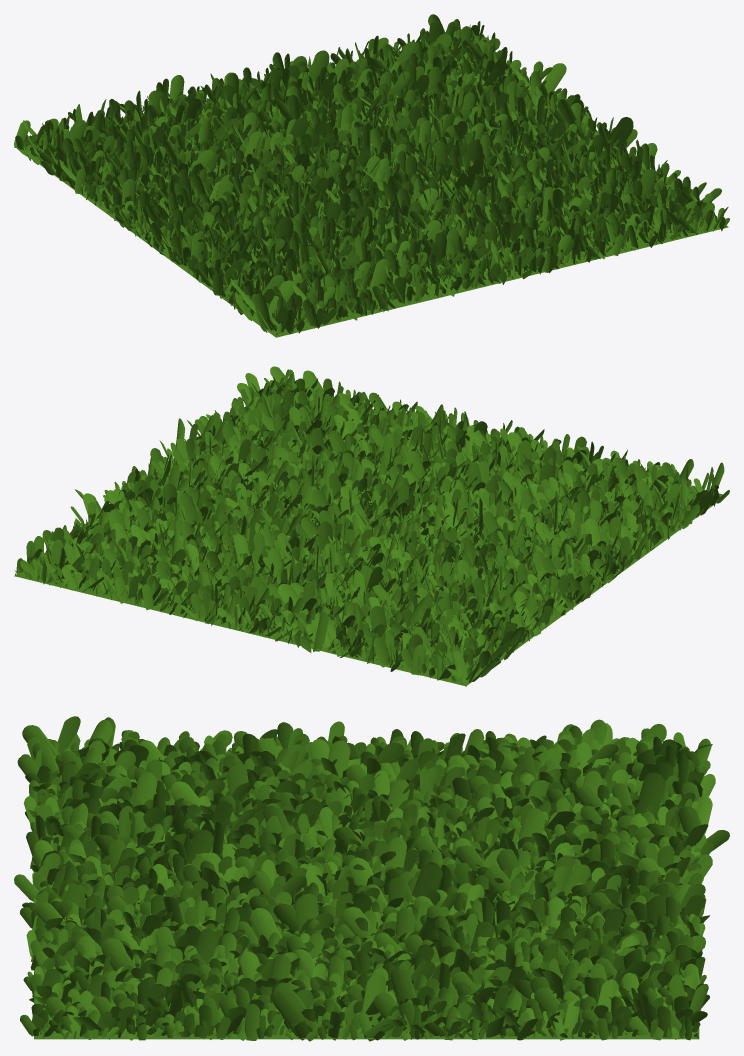
The model's file is pearl.glb.
3 views of the same model, one above another, from view 1: azimuth 30°, elevation 25°; view 2: azimuth 150°, elevation 25°; view 3: azimuth 270°, elevation 25° (orthographic). The views are drawn at different scales.
Parts seen in each view (by area): view 1: Pearl Grass; view 2: Pearl Grass; view 3: Pearl Grass.
Part boxes in pixels (box(x1,y1,x2,y2)): Pearl Grass: box(14, 14, 729, 337); Pearl Grass: box(14, 366, 729, 686); Pearl Grass: box(14, 716, 729, 1041).
Bounding box in the file's own units: 2.14 × 0.2048 × 2.15.
